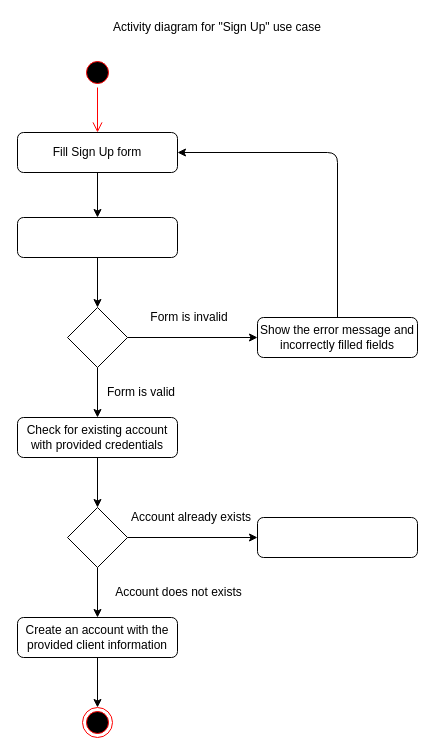
Image size: 435x755. Some labels were removed from this diagram. Each missing label, with the centre of its shape:
"Show the error message" belongs at [337,537].
"Validate Sign Up form" belongs at [97,237].
